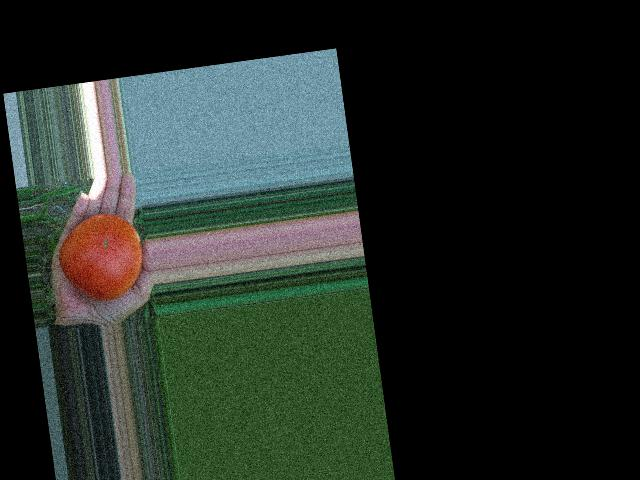tomato: (53, 209, 147, 304)
